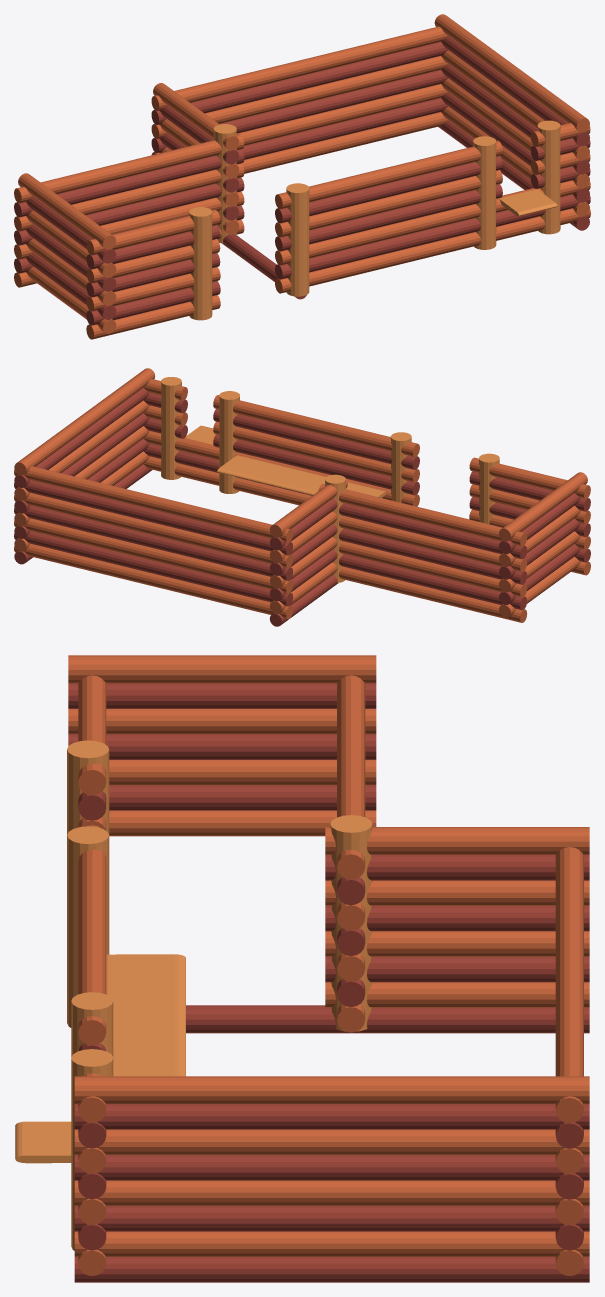
File: Restauracja Sciany.fbx
The picture shows the model from 3 angles, top to bottom: view 1: azimuth 30°, elevation 25°; view 2: azimuth 150°, elevation 25°; view 3: azimuth 270°, elevation 25°; orthographic projection. The views are drawn at different scales.
Parts seen in each view (by area): view 1: DrewnianeSciany; view 2: DrewnianeSciany; view 3: DrewnianeSciany.
Boxes of the visible parts, bbox=[...] form: DrewnianeSciany: bbox=[14, 14, 590, 339]; DrewnianeSciany: bbox=[14, 368, 590, 626]; DrewnianeSciany: bbox=[15, 655, 589, 1282].
Bounding box in the file's own units: 37.12 × 8.17 × 20.45.
